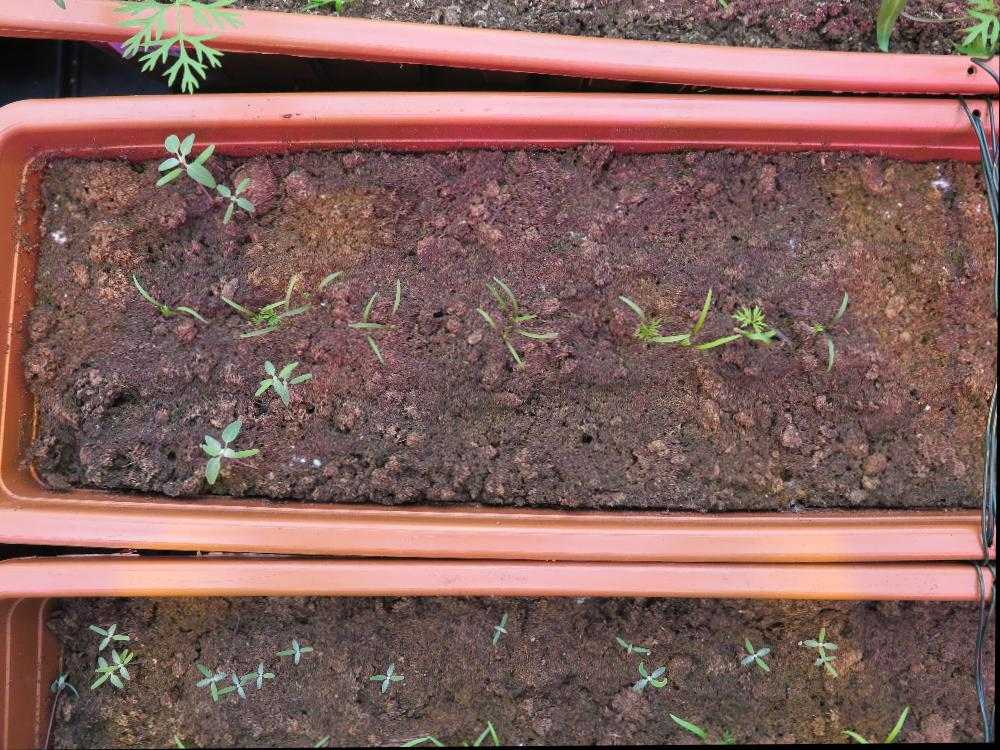weed: (216, 175, 256, 224), (631, 659, 668, 692), (368, 662, 405, 694), (740, 636, 771, 673), (88, 623, 132, 649), (275, 637, 314, 665), (614, 635, 651, 654), (491, 611, 508, 646)
